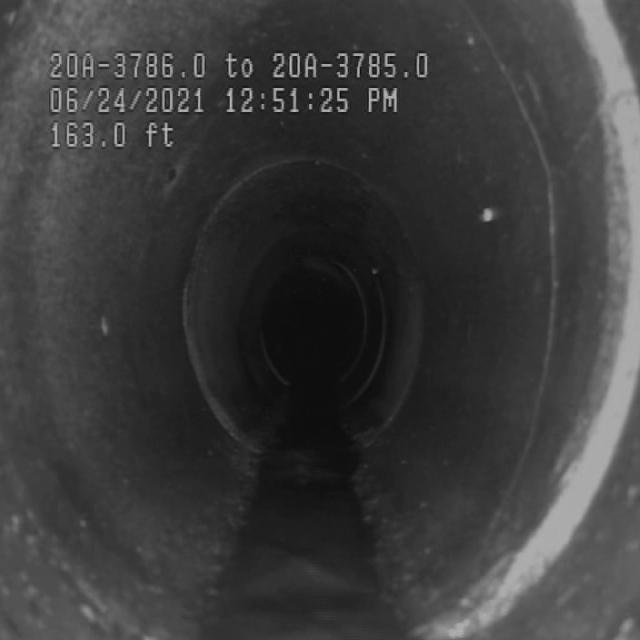Crack: (488, 59, 612, 470)
